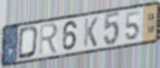5: (103, 10, 120, 48), (124, 10, 141, 42)
6: (62, 20, 78, 52)
D: (17, 24, 40, 61)
K: (82, 16, 99, 49)
R: (38, 22, 59, 57)
